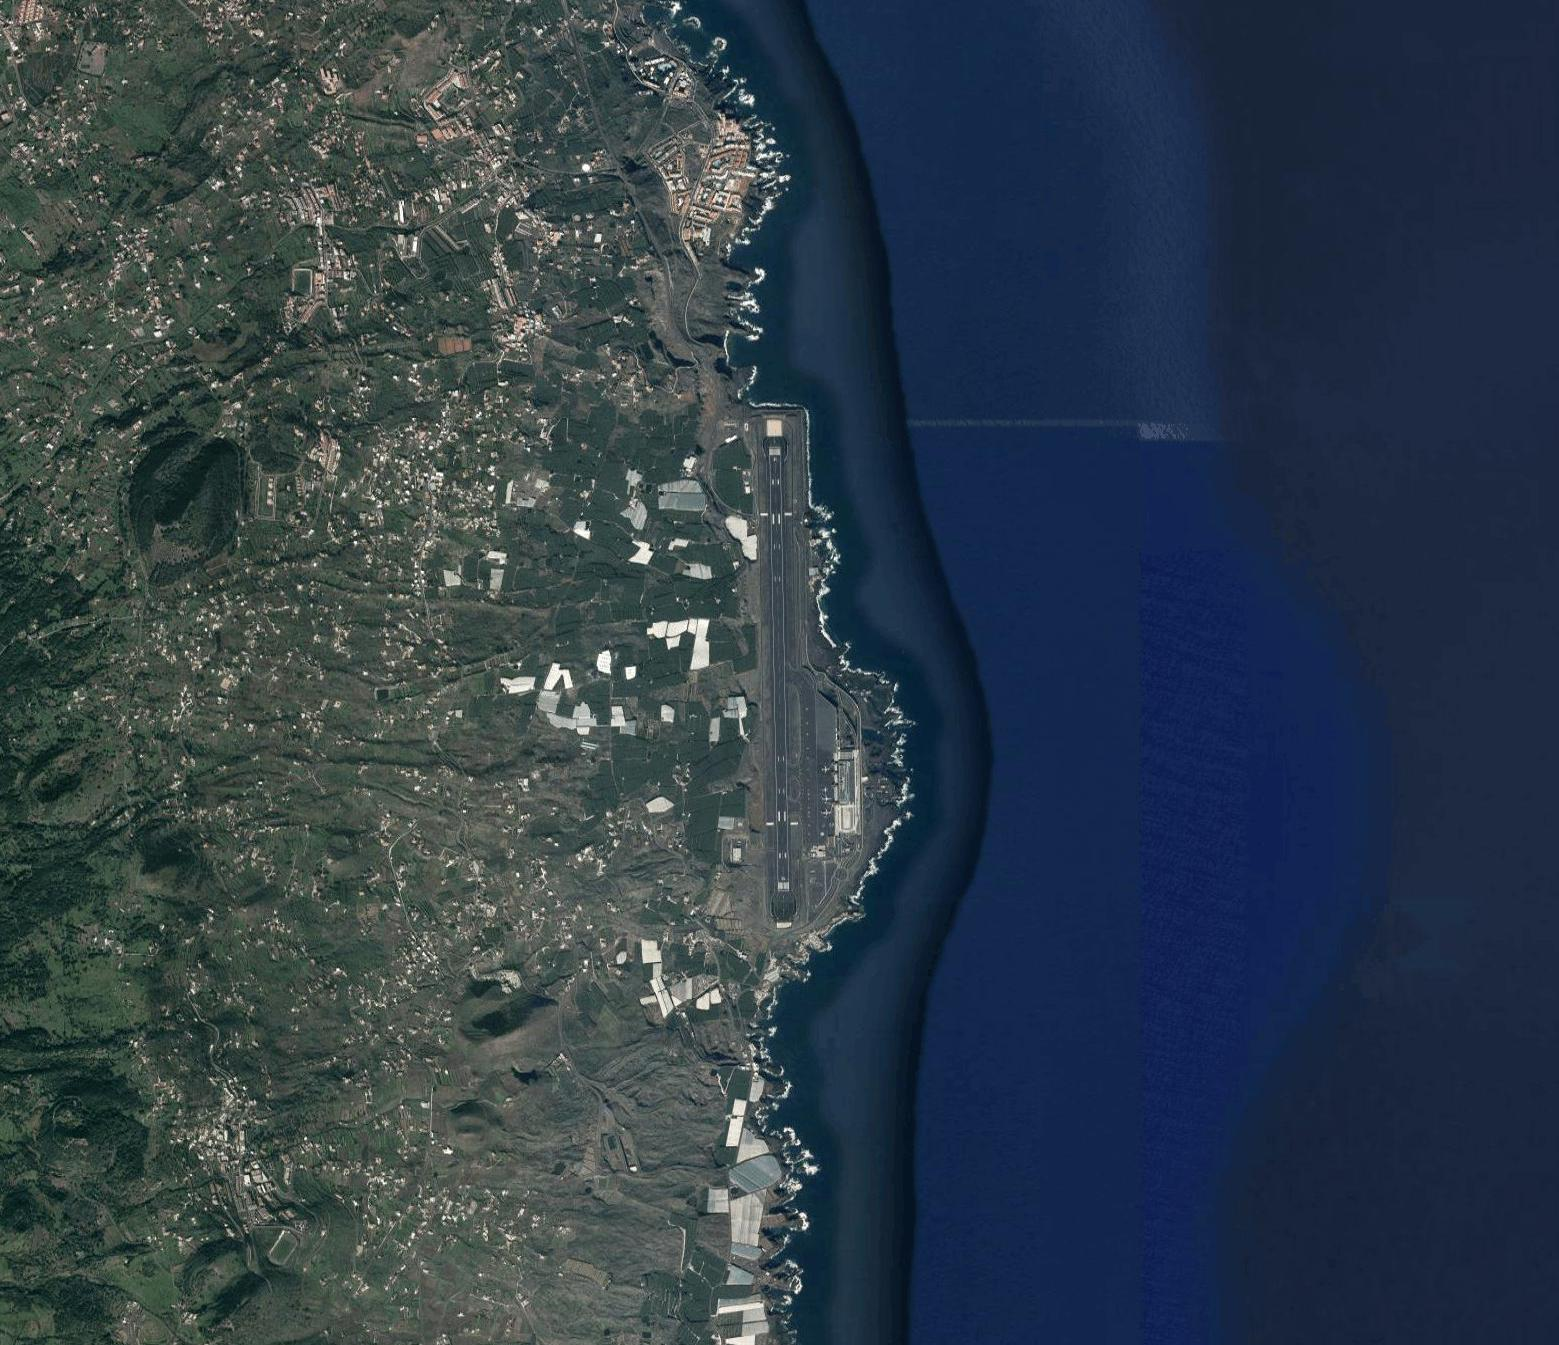airport: (713, 399, 882, 969)
